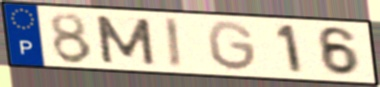1: (275, 23, 306, 76)
6: (314, 25, 364, 78)
8: (48, 10, 96, 65)
G: (205, 19, 259, 73)
I: (161, 16, 185, 71)
M: (92, 13, 159, 67)
